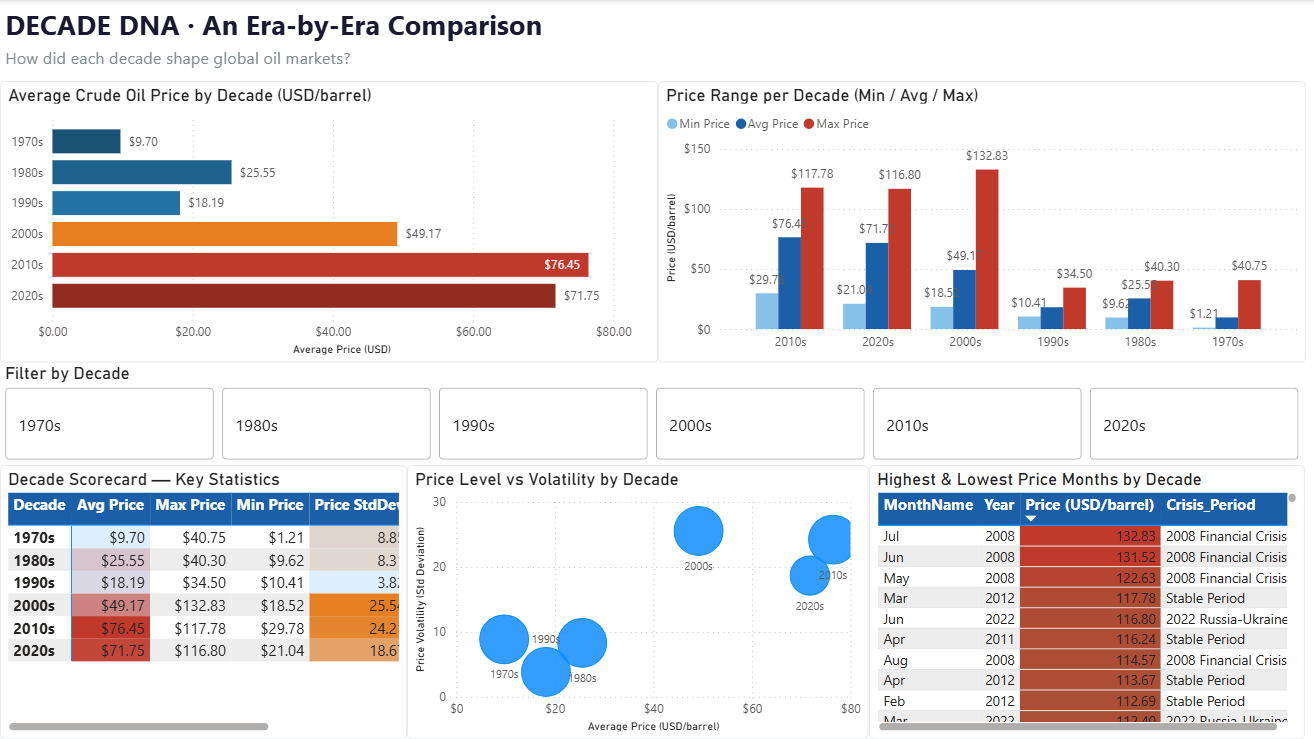

The page's visual inventory and layout, read from the dashboard file:
{"tool":"powerbi","page":{"name":"🔟 Decade DNA","canvas":[1280,720],"ordinal":2},"visuals":[{"type":"textbox","box":[0,0,558.3,47.7],"z":0},{"type":"textbox","box":[0,39.9,356,38.9],"z":1000},{"type":"clusteredBarChart","title":"Average Crude Oil Price by Decade (USD/barrel)","fields":{"Category":["DateTable.Decade"],"Y":["FuelPrices.Avg Price"]},"box":[0,78.8,640,274.3],"z":2000},{"type":"clusteredColumnChart","title":"Price Range per Decade (Min / Avg / Max)","fields":{"Category":["DateTable.Decade"],"Y":["FuelPrices.Min Price","FuelPrices.Avg Price","FuelPrices.Max Price"]},"box":[640,78.8,630.3,274.3],"z":3000},{"type":"pivotTable","title":"Decade Scorecard — Key Statistics","fields":{"Rows":["DateTable.Decade"],"Values":["FuelPrices.Avg Price","FuelPrices.Max Price","FuelPrices.Min Price","FuelPrices.Price StdDev","FuelPrices.YoY Price Change %"]},"box":[0,452.3,395.9,267.5],"z":4000},{"type":"scatterChart","title":"Price Level vs Volatility by Decade","fields":{"X":["FuelPrices.Avg Price"],"Y":["FuelPrices.Price StdDev"],"Category":["DateTable.Decade"],"Size":["FuelPrices.Price Count"]},"box":[395.9,452.3,449.4,267.5],"z":5000},{"type":"tableEx","title":"Highest & Lowest Price Months by Decade","fields":{"Values":["DateTable.MonthName","DateTable.Year","Sum(FuelPrices.Price_USD)","FuelPrices.Crisis_Period"]},"box":[845.2,452.3,424.1,267.5],"z":6000},{"type":"advancedSlicerVisual","title":"Filter by Decade","fields":{"Values":["DateTable.Decade"]},"box":[0,353.1,1269.3,99.2],"z":8000}]}

Visuals, with their boxes in screenshot pixels (x1, y1, x2, y2), scaled from the page's 1280x720 canvas onto the 1314x739 screenshot:
textbox: box=[0, 0, 573, 49]
textbox: box=[0, 41, 365, 81]
"Average Crude Oil Price by Decade (USD/barrel)" clusteredBarChart: box=[0, 81, 657, 362]
"Price Range per Decade (Min / Avg / Max)" clusteredColumnChart: box=[657, 81, 1304, 362]
"Decade Scorecard — Key Statistics" pivotTable: box=[0, 464, 406, 738]
"Price Level vs Volatility by Decade" scatterChart: box=[406, 464, 868, 738]
"Highest & Lowest Price Months by Decade" tableEx: box=[868, 464, 1303, 738]
"Filter by Decade" advancedSlicerVisual: box=[0, 362, 1303, 464]
